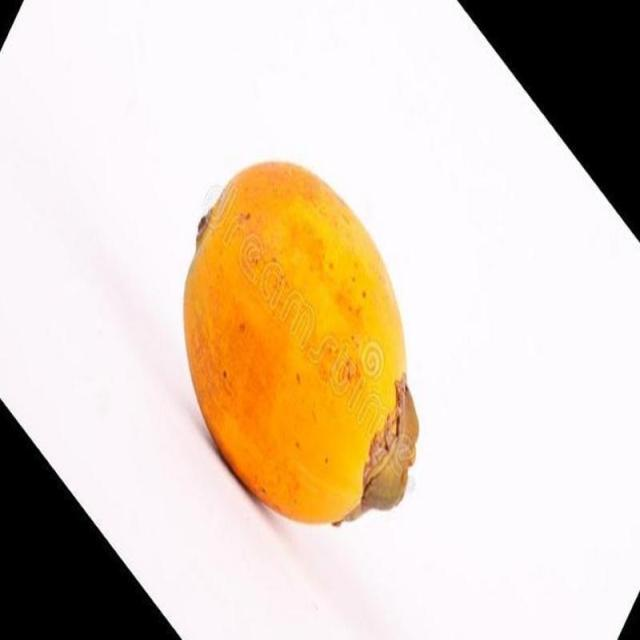good: (182, 162, 419, 528)
